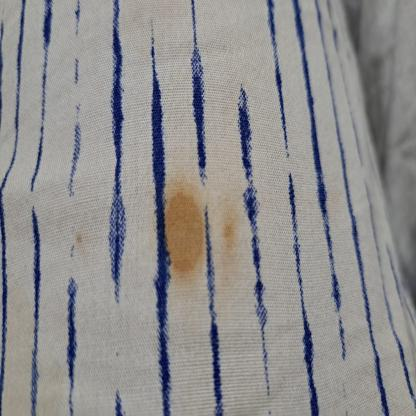spot: (156, 178, 209, 286), (136, 217, 241, 262), (216, 198, 247, 288), (71, 224, 97, 252)
